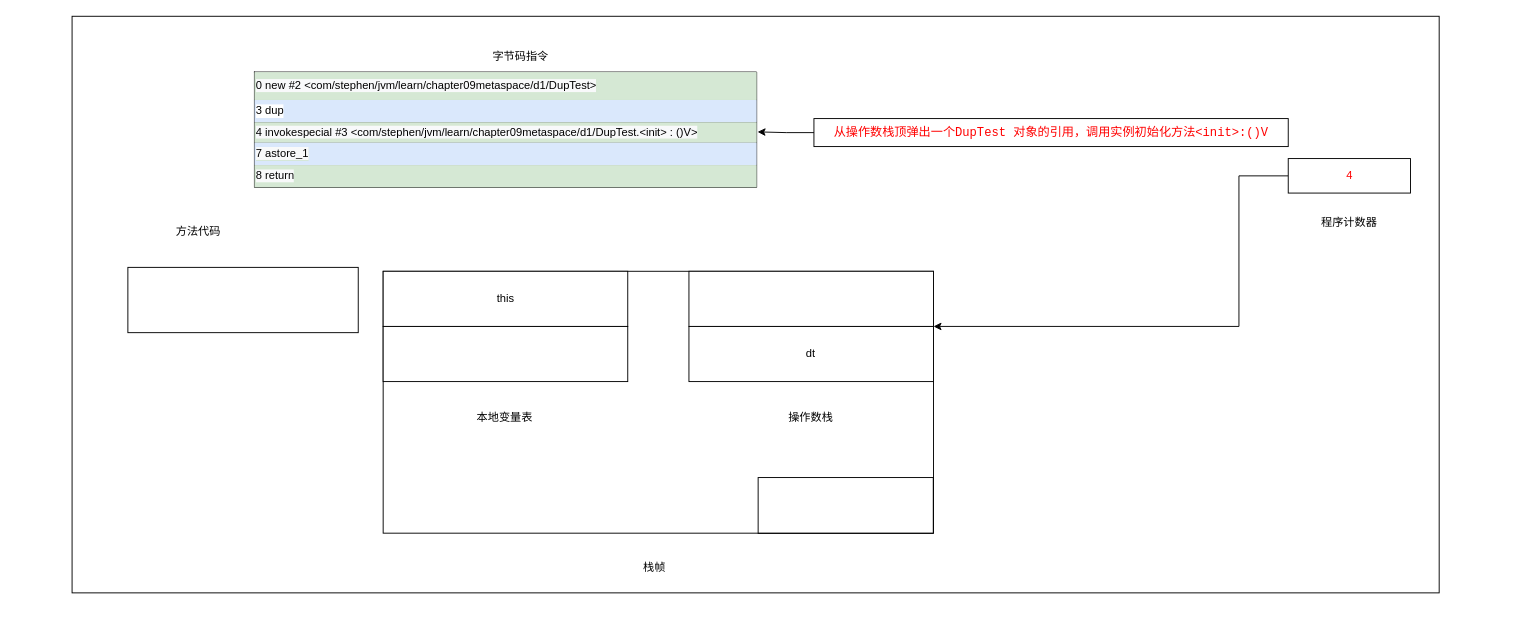
This 1520x618 diagram has some shape labels left out. The centre of each missing label's shape, as x and y in pixels:
"public void test () { DupTest dt = new DupTest() ; }" goes at (242,299).
"其他栈帧信息" goes at (845,505).
